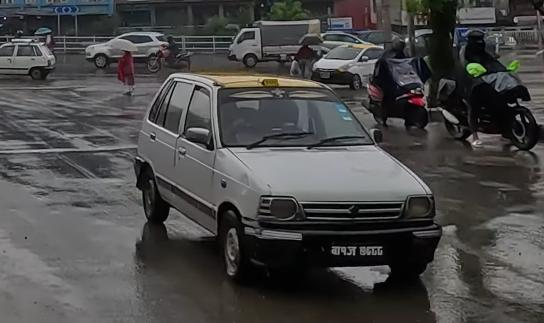bike: (436, 60, 541, 154), (147, 43, 194, 74)
car: (84, 30, 169, 68)
scooter: (361, 60, 431, 131)
taxi: (128, 63, 447, 285), (0, 36, 57, 83)
